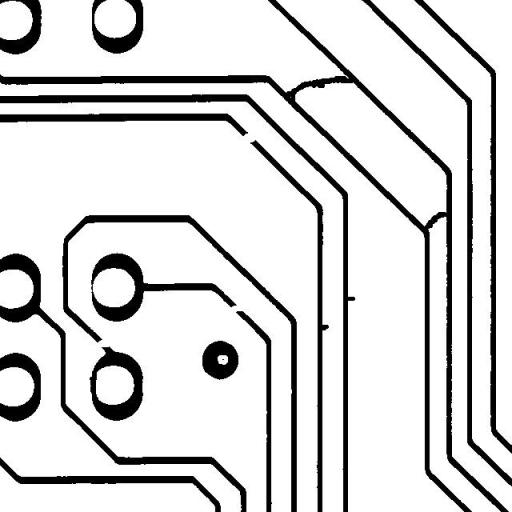open: (235, 123, 264, 150), (220, 298, 251, 320), (90, 330, 116, 354)
pin-hole: (210, 347, 235, 372)
short: (274, 68, 364, 109), (417, 204, 454, 240), (82, 362, 106, 408)
spur: (313, 316, 336, 338), (338, 289, 362, 308)
